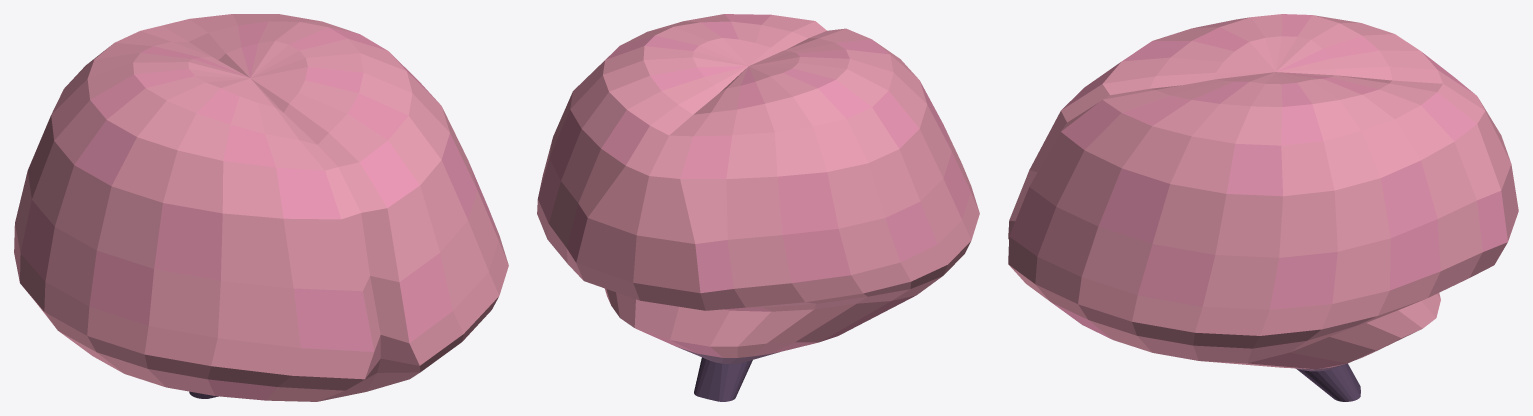
The model's file is brain.fbx.
The picture shows the model from 3 angles, left to right: view 1: azimuth 30°, elevation 25°; view 2: azimuth 150°, elevation 25°; view 3: azimuth 270°, elevation 25°; orthographic projection. The views are drawn at different scales.
Visible parts, largest first — view 1: Brain; view 2: Brain; view 3: Brain.
Part boxes in pixels (left/top/right/bottom): Brain: left=14, top=14, right=508, bottom=401; Brain: left=537, top=14, right=979, bottom=401; Brain: left=1008, top=14, right=1518, bottom=401.
Bounding box in the file's own units: 117 × 92.39 × 128.
